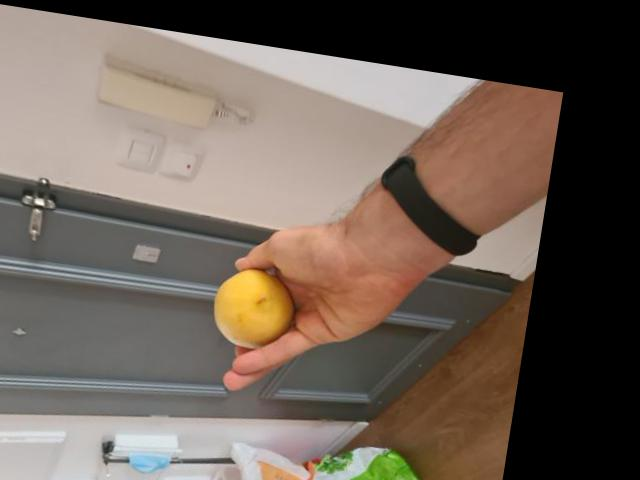lemon: (206, 266, 300, 354)
